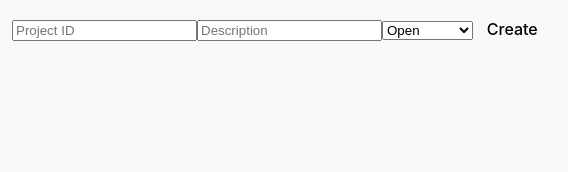
WorkOrderForm › Loading States › clears error message on new form input
Note: Fill and submit to trigger error
Type "123" into the field with placeholder "Project ID".
click(104, 31); type("123")  # box [12,20,197,41]
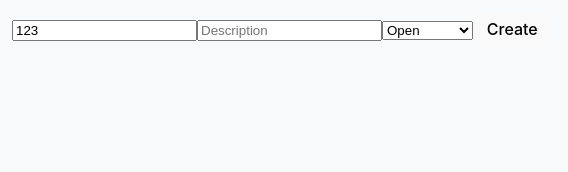
Type "Test work order" into the field with placeholder "Description".
click(290, 31); type("Test work order")  # box [197,20,382,41]
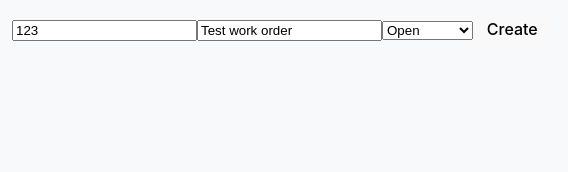
Click the button "Create".
click(512, 29)  # box [473,12,552,47]
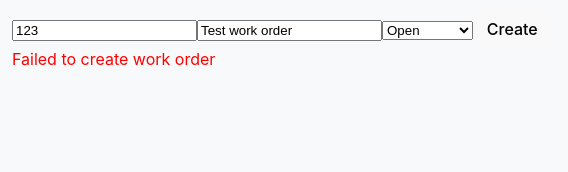
Now the text "Failed to create work order" is shown, box [12,49,215,69]
Note: Change input should clear error
Replace the text in the 1st field with placeholder "Project ID" with "456" at (104, 31), box [12,20,197,41]
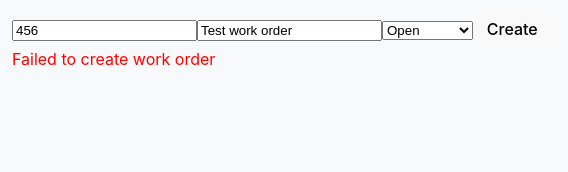
Click the button "Create".
click(512, 29)  # box [473,12,552,47]
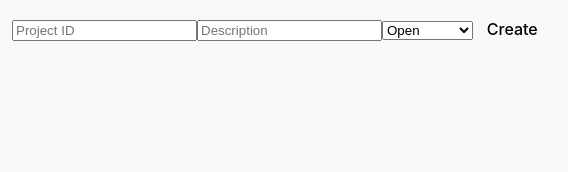
Now the text "Failed to create work order" is gone
